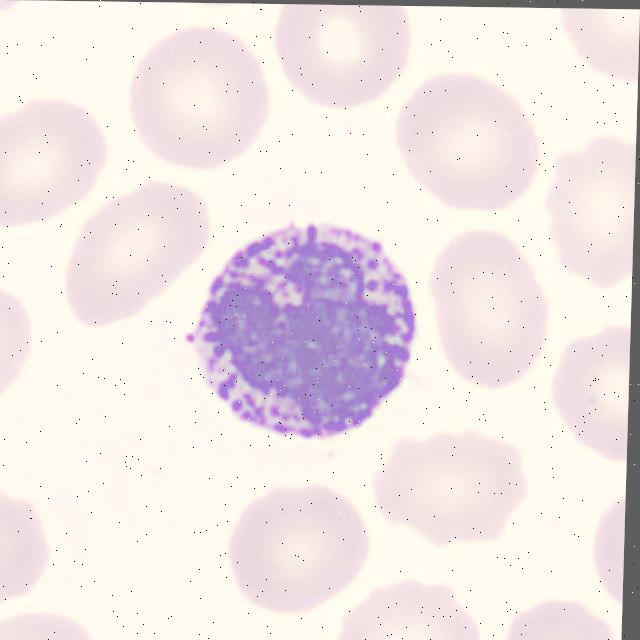basophil: (183, 205, 426, 435)
rbc: (46, 167, 217, 339), (109, 22, 271, 202), (425, 229, 551, 394), (369, 422, 530, 547), (395, 75, 541, 211), (227, 477, 360, 610), (0, 76, 106, 236), (265, 4, 418, 114), (541, 120, 636, 291), (550, 309, 631, 472), (320, 579, 493, 640), (0, 470, 55, 610), (0, 261, 48, 412), (555, 8, 640, 80), (0, 590, 116, 640), (583, 484, 626, 613), (490, 600, 621, 640), (161, 2, 261, 15), (0, 0, 32, 18)
